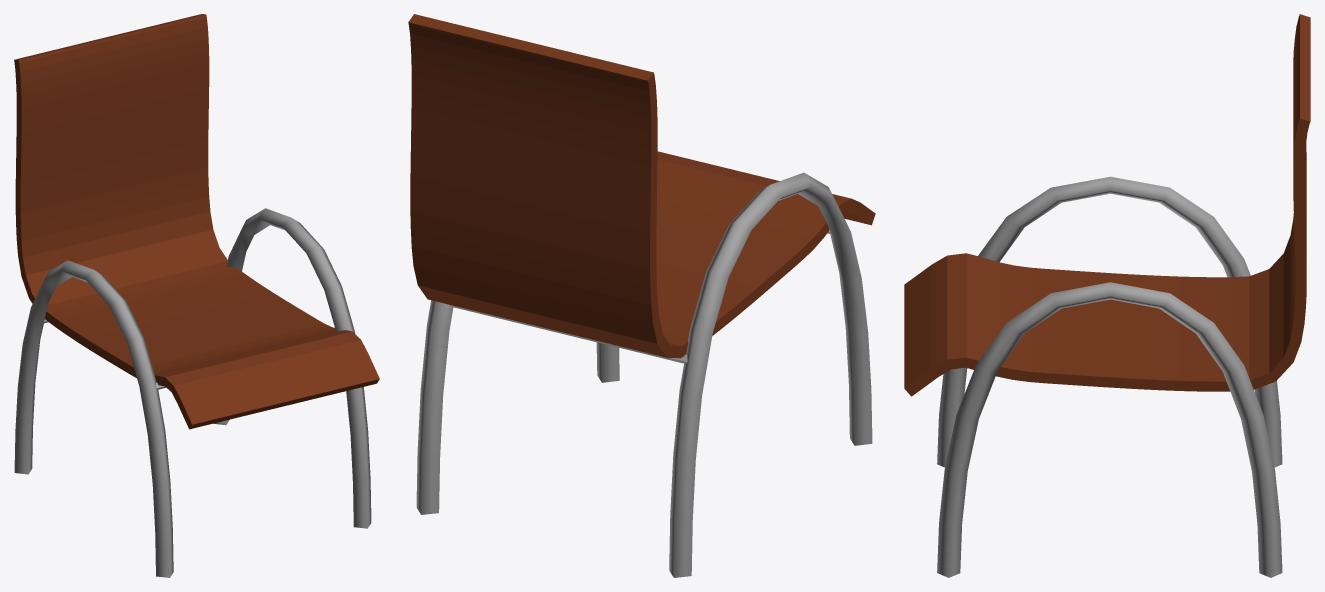
File: chairoutside.fbx
The picture shows the model from 3 angles, left to right: view 1: azimuth 30°, elevation 25°; view 2: azimuth 150°, elevation 25°; view 3: azimuth 270°, elevation 25°; orthographic projection. The views are drawn at different scales.
Visible parts, largest first — view 1: Plane; view 2: Plane; view 3: Plane.
Boxes of the visible parts, bbox=[...] form: Plane: bbox=[14, 14, 379, 577]; Plane: bbox=[408, 14, 875, 577]; Plane: bbox=[904, 14, 1310, 577].
Size of the model in its own units: 35.95 by 63.71 by 51.54.
